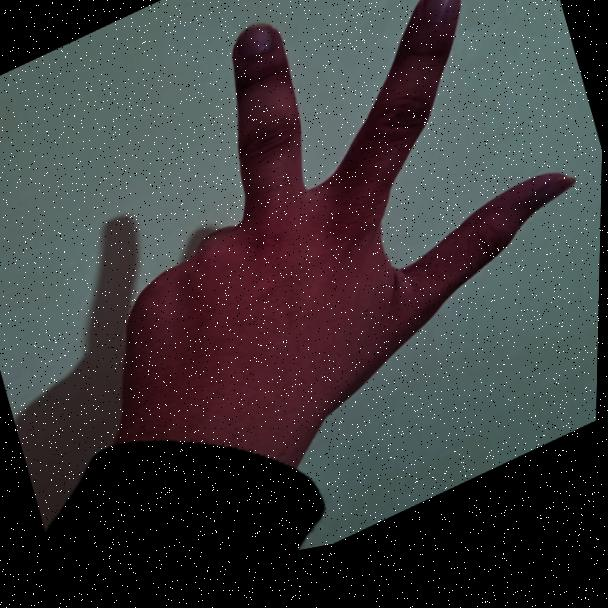three: (5, 0, 603, 544)
